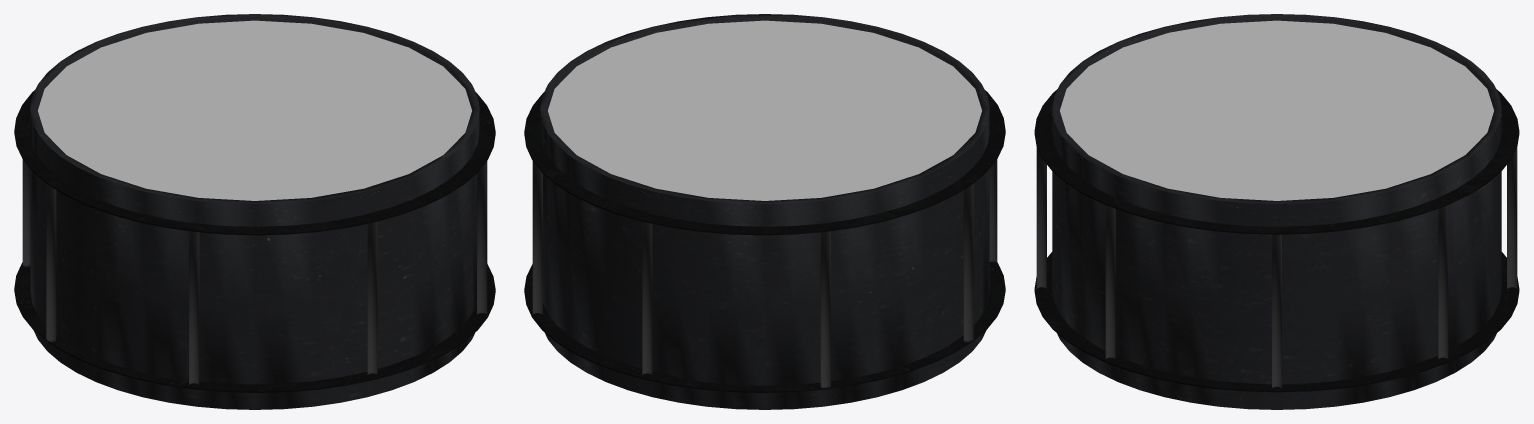
File: Tambour1.fbx
3 views of the same model, side by side, from view 1: azimuth 30°, elevation 25°; view 2: azimuth 150°, elevation 25°; view 3: azimuth 270°, elevation 25° (orthographic).
Visible parts, largest first — view 1: Drum, skin, Cylinder, attache1, attache2; view 2: Drum, skin, Cylinder, attache1, attache2; view 3: Drum, skin, Cylinder, attache1, attache2.
Part boxes in pixels (<box>): Drum: <box>30,14,479,409</box>; skin: <box>38,20,471,200</box>; Cylinder: <box>22,159,487,384</box>; attache1: <box>14,89,495,235</box>; attache2: <box>14,262,495,392</box>; Drum: <box>540,14,989,409</box>; skin: <box>548,20,981,200</box>; Cylinder: <box>532,159,997,388</box>; attache1: <box>524,89,1005,235</box>; attache2: <box>524,261,1005,392</box>; Drum: <box>1052,14,1501,409</box>; skin: <box>1060,20,1493,200</box>; Cylinder: <box>1036,147,1517,387</box>; attache1: <box>1034,89,1519,234</box>; attache2: <box>1034,252,1519,392</box>.
Size of the model in its own units: 34.88 by 16.5 by 35.21.
